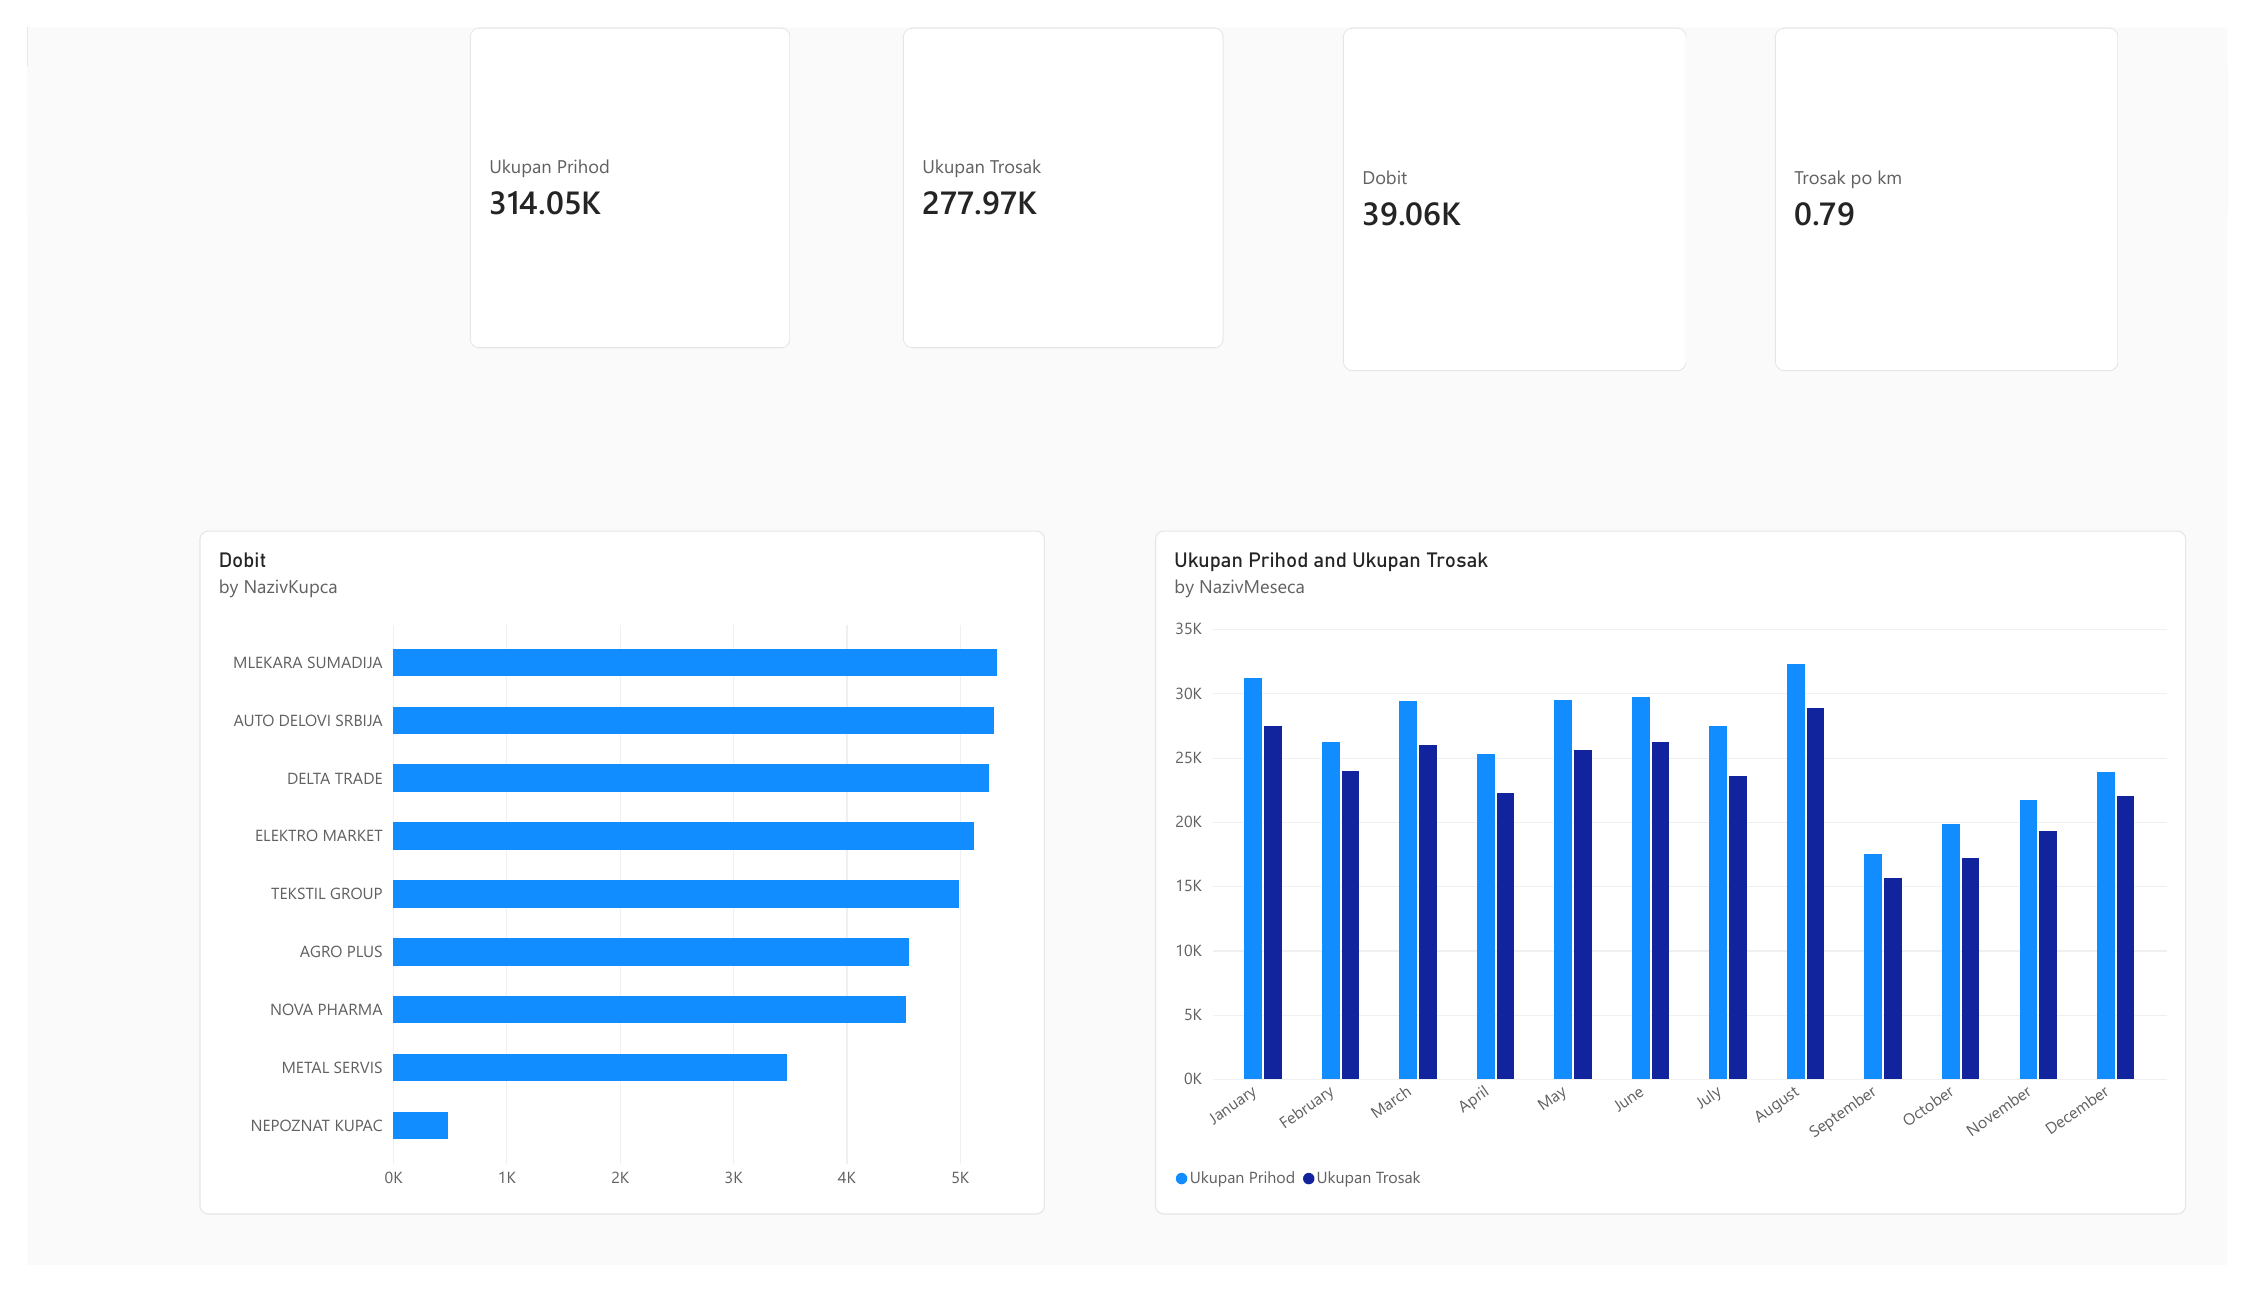

Layout of this report page (visuals, bound fields, positions):
{"tool":"powerbi","page":{"name":"Financije","canvas":[1920,1080],"ordinal":1},"visuals":[{"type":"cardVisual","fields":{"Data":["fact_Posiljke.Ukupan Prihod"]},"box":[385.7,0,280,280],"z":0},{"type":"cardVisual","fields":{"Data":["fact_Posiljke.Ukupan Trosak"]},"box":[764.3,0,280,280],"z":1},{"type":"cardVisual","fields":{"Data":["fact_Posiljke.Dobit"]},"box":[1148.2,0,300,300],"z":2},{"type":"cardVisual","fields":{"Data":["fact_Posiljke.Trosak po km"]},"box":[1525,0,300,300],"z":3},{"type":"clusteredBarChart","fields":{"Category":["dim_Kupac.NazivKupca"],"Y":["fact_Posiljke.Dobit"]},"box":[150,439.3,737.5,596.4],"z":4},{"type":"clusteredColumnChart","fields":{"Category":["dim_Datum.NazivMeseca"],"Y":["fact_Posiljke.Ukupan Prihod","fact_Posiljke.Ukupan Trosak"]},"box":[983.9,439.3,900,596.4],"z":5}]}

Visuals, with their boxes in screenshot pixels (x1, y1, x2, y2), scaled from the page's 1920x1080 canvas onto the 2255x1293 screenshot:
cardVisual - fact_Posiljke.Ukupan Prihod: {"left": 453, "top": 0, "right": 782, "bottom": 335}
cardVisual - fact_Posiljke.Ukupan Trosak: {"left": 898, "top": 0, "right": 1227, "bottom": 335}
cardVisual - fact_Posiljke.Dobit: {"left": 1349, "top": 0, "right": 1701, "bottom": 359}
cardVisual - fact_Posiljke.Trosak po km: {"left": 1791, "top": 0, "right": 2143, "bottom": 359}
clusteredBarChart - dim_Kupac.NazivKupca x fact_Posiljke.Dobit: {"left": 176, "top": 526, "right": 1042, "bottom": 1240}
clusteredColumnChart - dim_Datum.NazivMeseca x fact_Posiljke.Ukupan Prihod: {"left": 1156, "top": 526, "right": 2213, "bottom": 1240}
